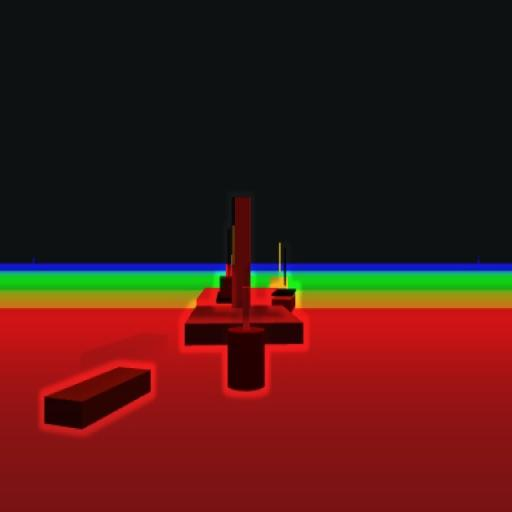platform: (184, 191, 304, 343)
